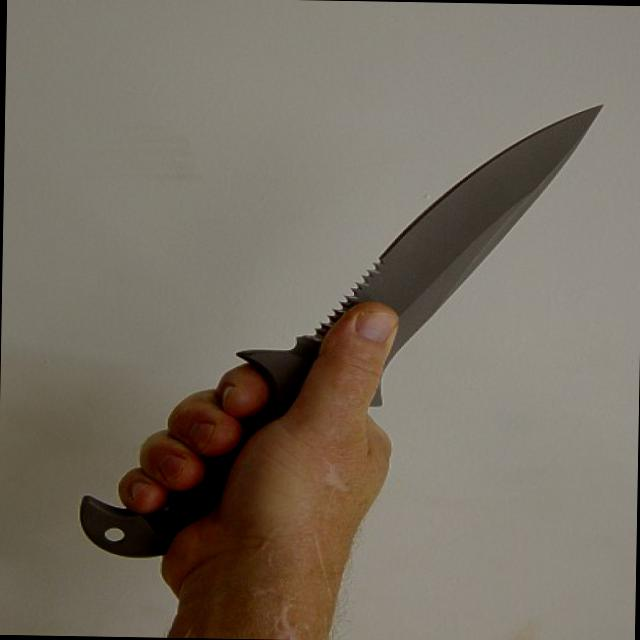knife: (122, 88, 615, 516)
